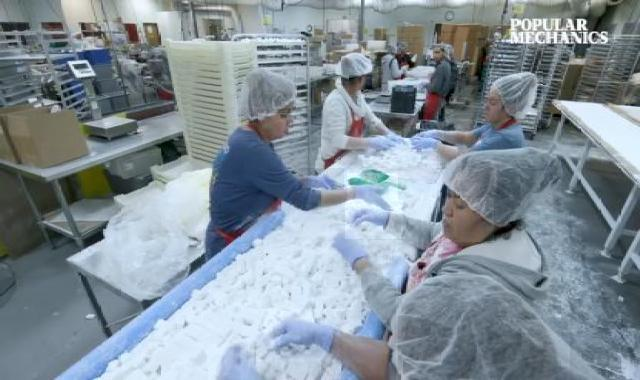apron: (263, 309, 341, 362), (328, 226, 375, 277), (207, 344, 273, 380), (345, 200, 403, 240), (348, 173, 398, 210), (298, 168, 344, 190), (405, 123, 445, 142), (362, 135, 399, 155), (409, 132, 438, 152)
gloves: (396, 275, 570, 380), (438, 148, 556, 224), (238, 68, 296, 124), (490, 72, 543, 124), (331, 51, 378, 83)
no_hairnet: (432, 198, 495, 242), (259, 113, 301, 142), (479, 99, 516, 124), (349, 76, 372, 96), (428, 49, 447, 64)
